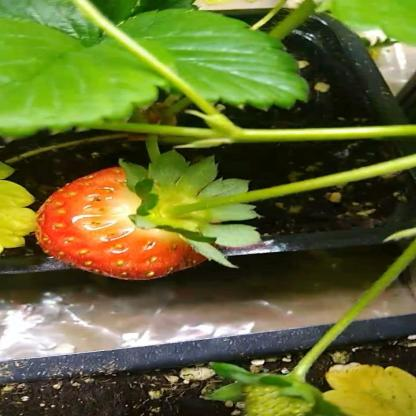ripe: (31, 165, 200, 281)
unripe: (222, 371, 328, 416)
